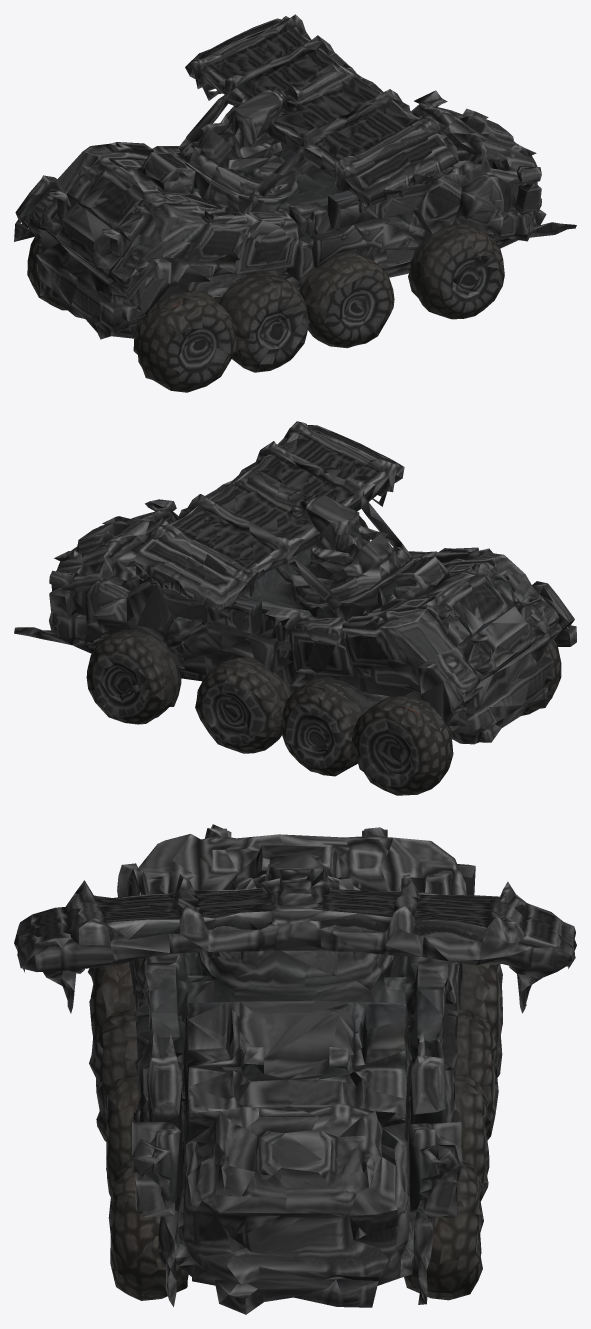
The model's file is fh_ground_radar_meshy.glb.
3 views of the same model, one above another, from view 1: azimuth 30°, elevation 25°; view 2: azimuth 150°, elevation 25°; view 3: azimuth 270°, elevation 25° (orthographic). The views are drawn at different scales.
Visible parts, largest first — view 1: GLTF; view 2: GLTF; view 3: GLTF.
Boxes of the visible parts, <box> form: GLTF: <box>14,14,576,392</box>; GLTF: <box>14,421,576,795</box>; GLTF: <box>14,824,576,1314</box>.
Size of the model in its own units: 1 by 0.4735 by 0.6956.
Materials: 1 (1 with a texture image).
